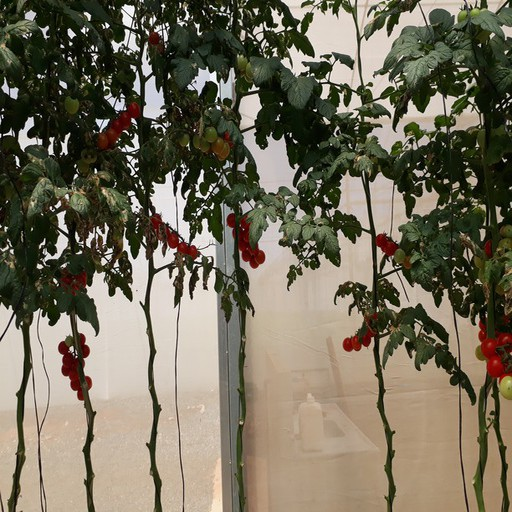dry leaves: (25, 153, 133, 260)
red tomato bunch: (176, 107, 234, 159), (478, 314, 512, 398), (96, 101, 145, 152), (146, 212, 199, 258), (58, 332, 93, 401), (224, 212, 265, 268), (342, 310, 384, 352), (375, 232, 415, 272)
